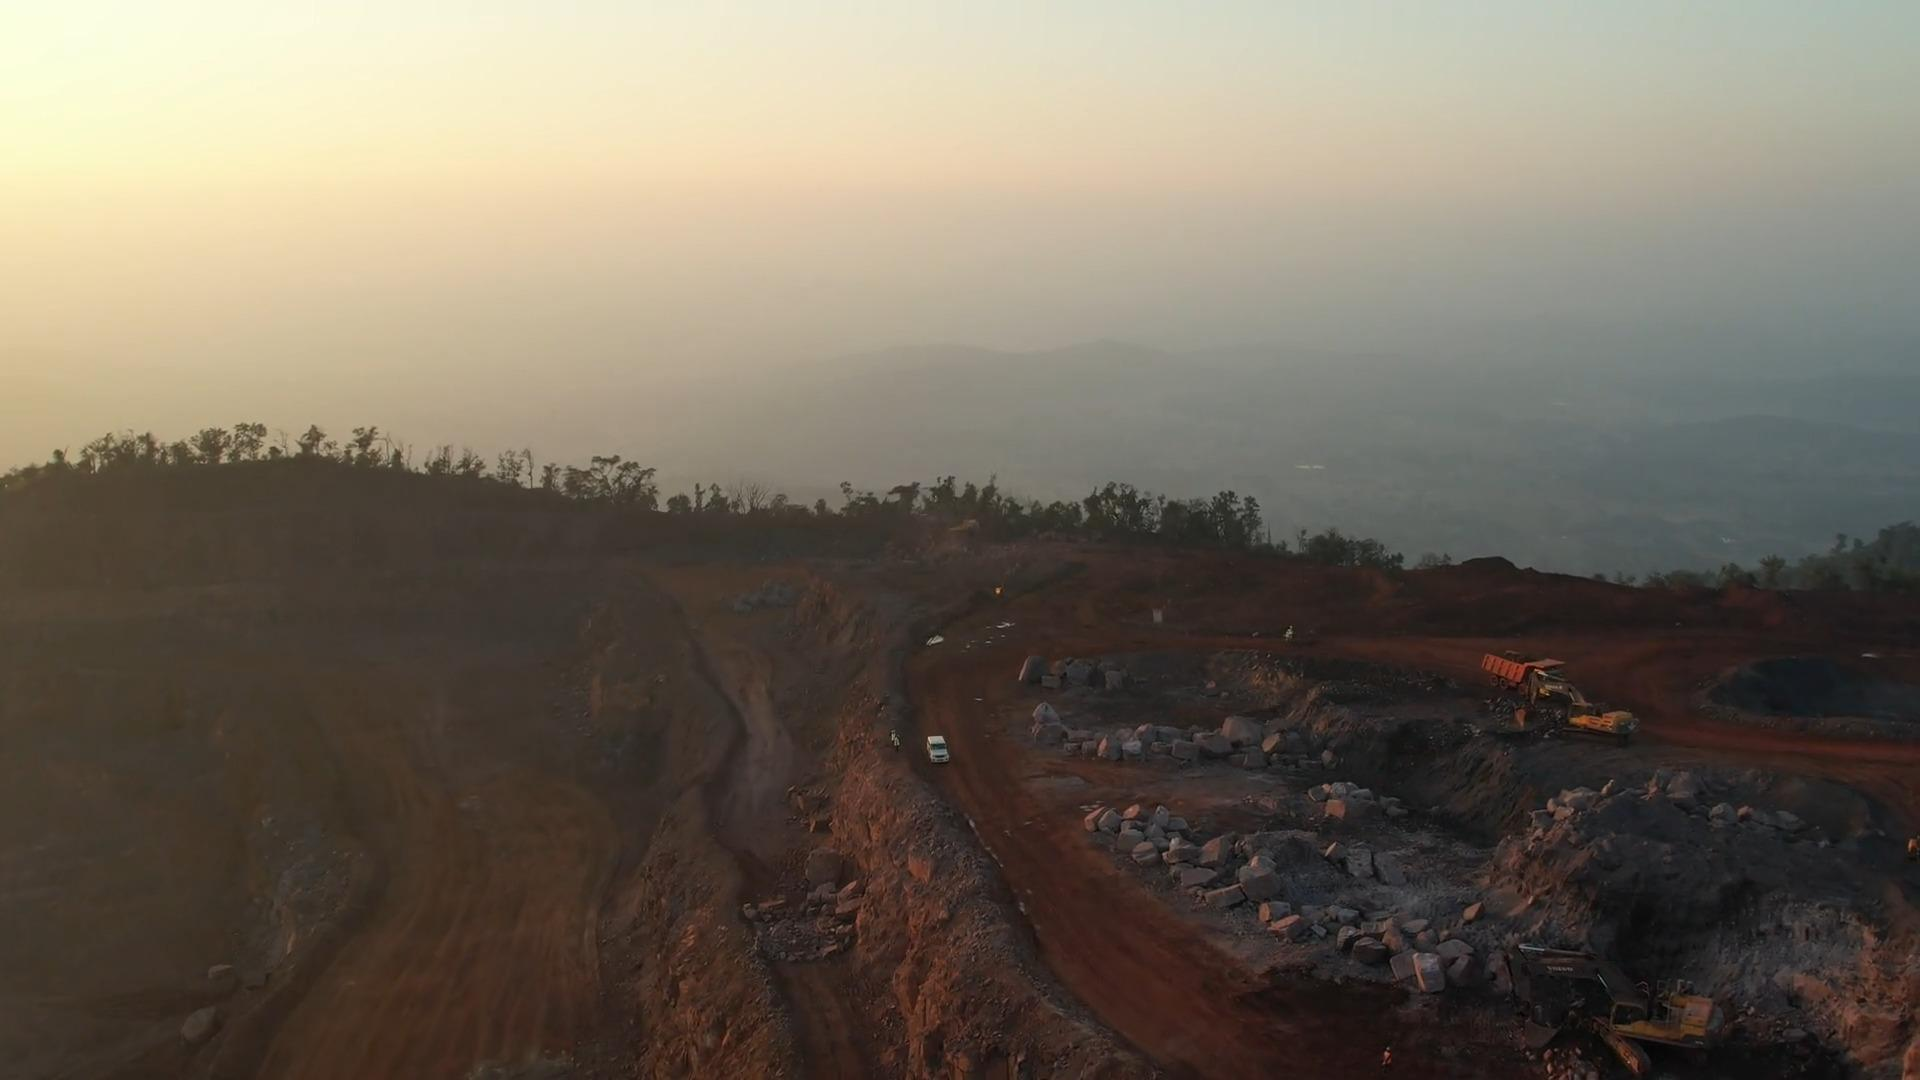excavator: (1507, 943, 1726, 1072), (1522, 669, 1638, 740)
